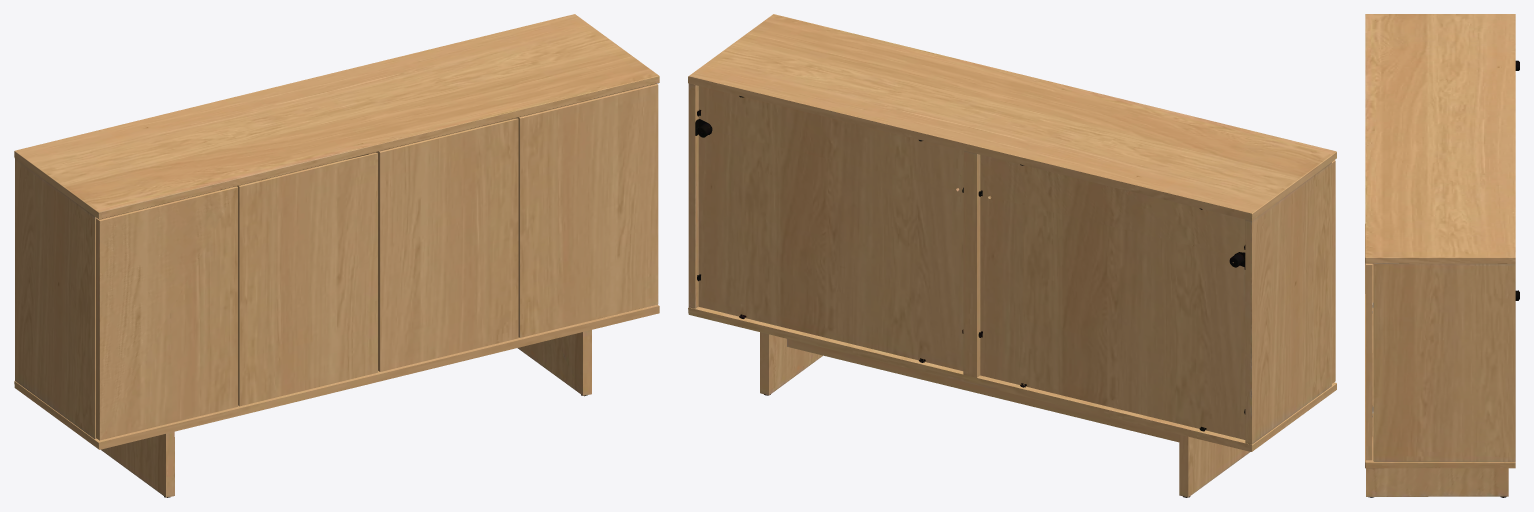
The model's file is stockholm-2025-aparador-chapa-roble.glb.
3 views of the same model, side by side, from view 1: azimuth 30°, elevation 25°; view 2: azimuth 150°, elevation 25°; view 3: azimuth 270°, elevation 25° (orthographic). The views are drawn at different scales.
Visible parts, largest first — view 1: ASY_ART_10586604_S01_NV01; view 2: ASY_ART_10586604_S01_NV01; view 3: ASY_ART_10586604_S01_NV01.
Boxes of the visible parts, x1,y1,x2,y2 form: ASY_ART_10586604_S01_NV01: (14,14,659,497); ASY_ART_10586604_S01_NV01: (688,14,1336,497); ASY_ART_10586604_S01_NV01: (1365,14,1519,497).
Size of the model in its own units: 1.61 by 0.832 by 0.4321.
1 material, 1 textured.
